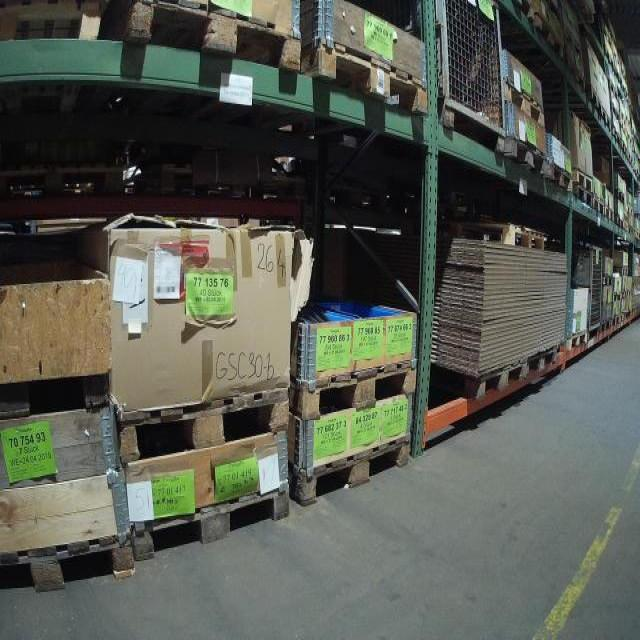pallet: (112, 372, 296, 471), (137, 479, 296, 570), (116, 1, 297, 71), (308, 32, 432, 123), (4, 523, 136, 598), (295, 352, 422, 424), (293, 433, 413, 508), (3, 368, 120, 431), (432, 353, 531, 406), (438, 217, 555, 257), (4, 168, 128, 203), (1, 1, 97, 41), (496, 77, 549, 126), (496, 130, 546, 177), (527, 342, 565, 385), (484, 0, 537, 28), (534, 15, 561, 62), (562, 53, 587, 99), (562, 23, 587, 62), (568, 160, 597, 191), (562, 328, 590, 357), (550, 157, 570, 195), (568, 185, 594, 211), (588, 88, 602, 120), (592, 196, 606, 224), (610, 120, 621, 151), (595, 319, 612, 337), (600, 271, 616, 288), (602, 107, 611, 135), (613, 212, 625, 231), (604, 207, 614, 226), (611, 315, 622, 329), (611, 289, 622, 302)
stillage: (391, 2, 508, 162), (558, 238, 605, 338)
